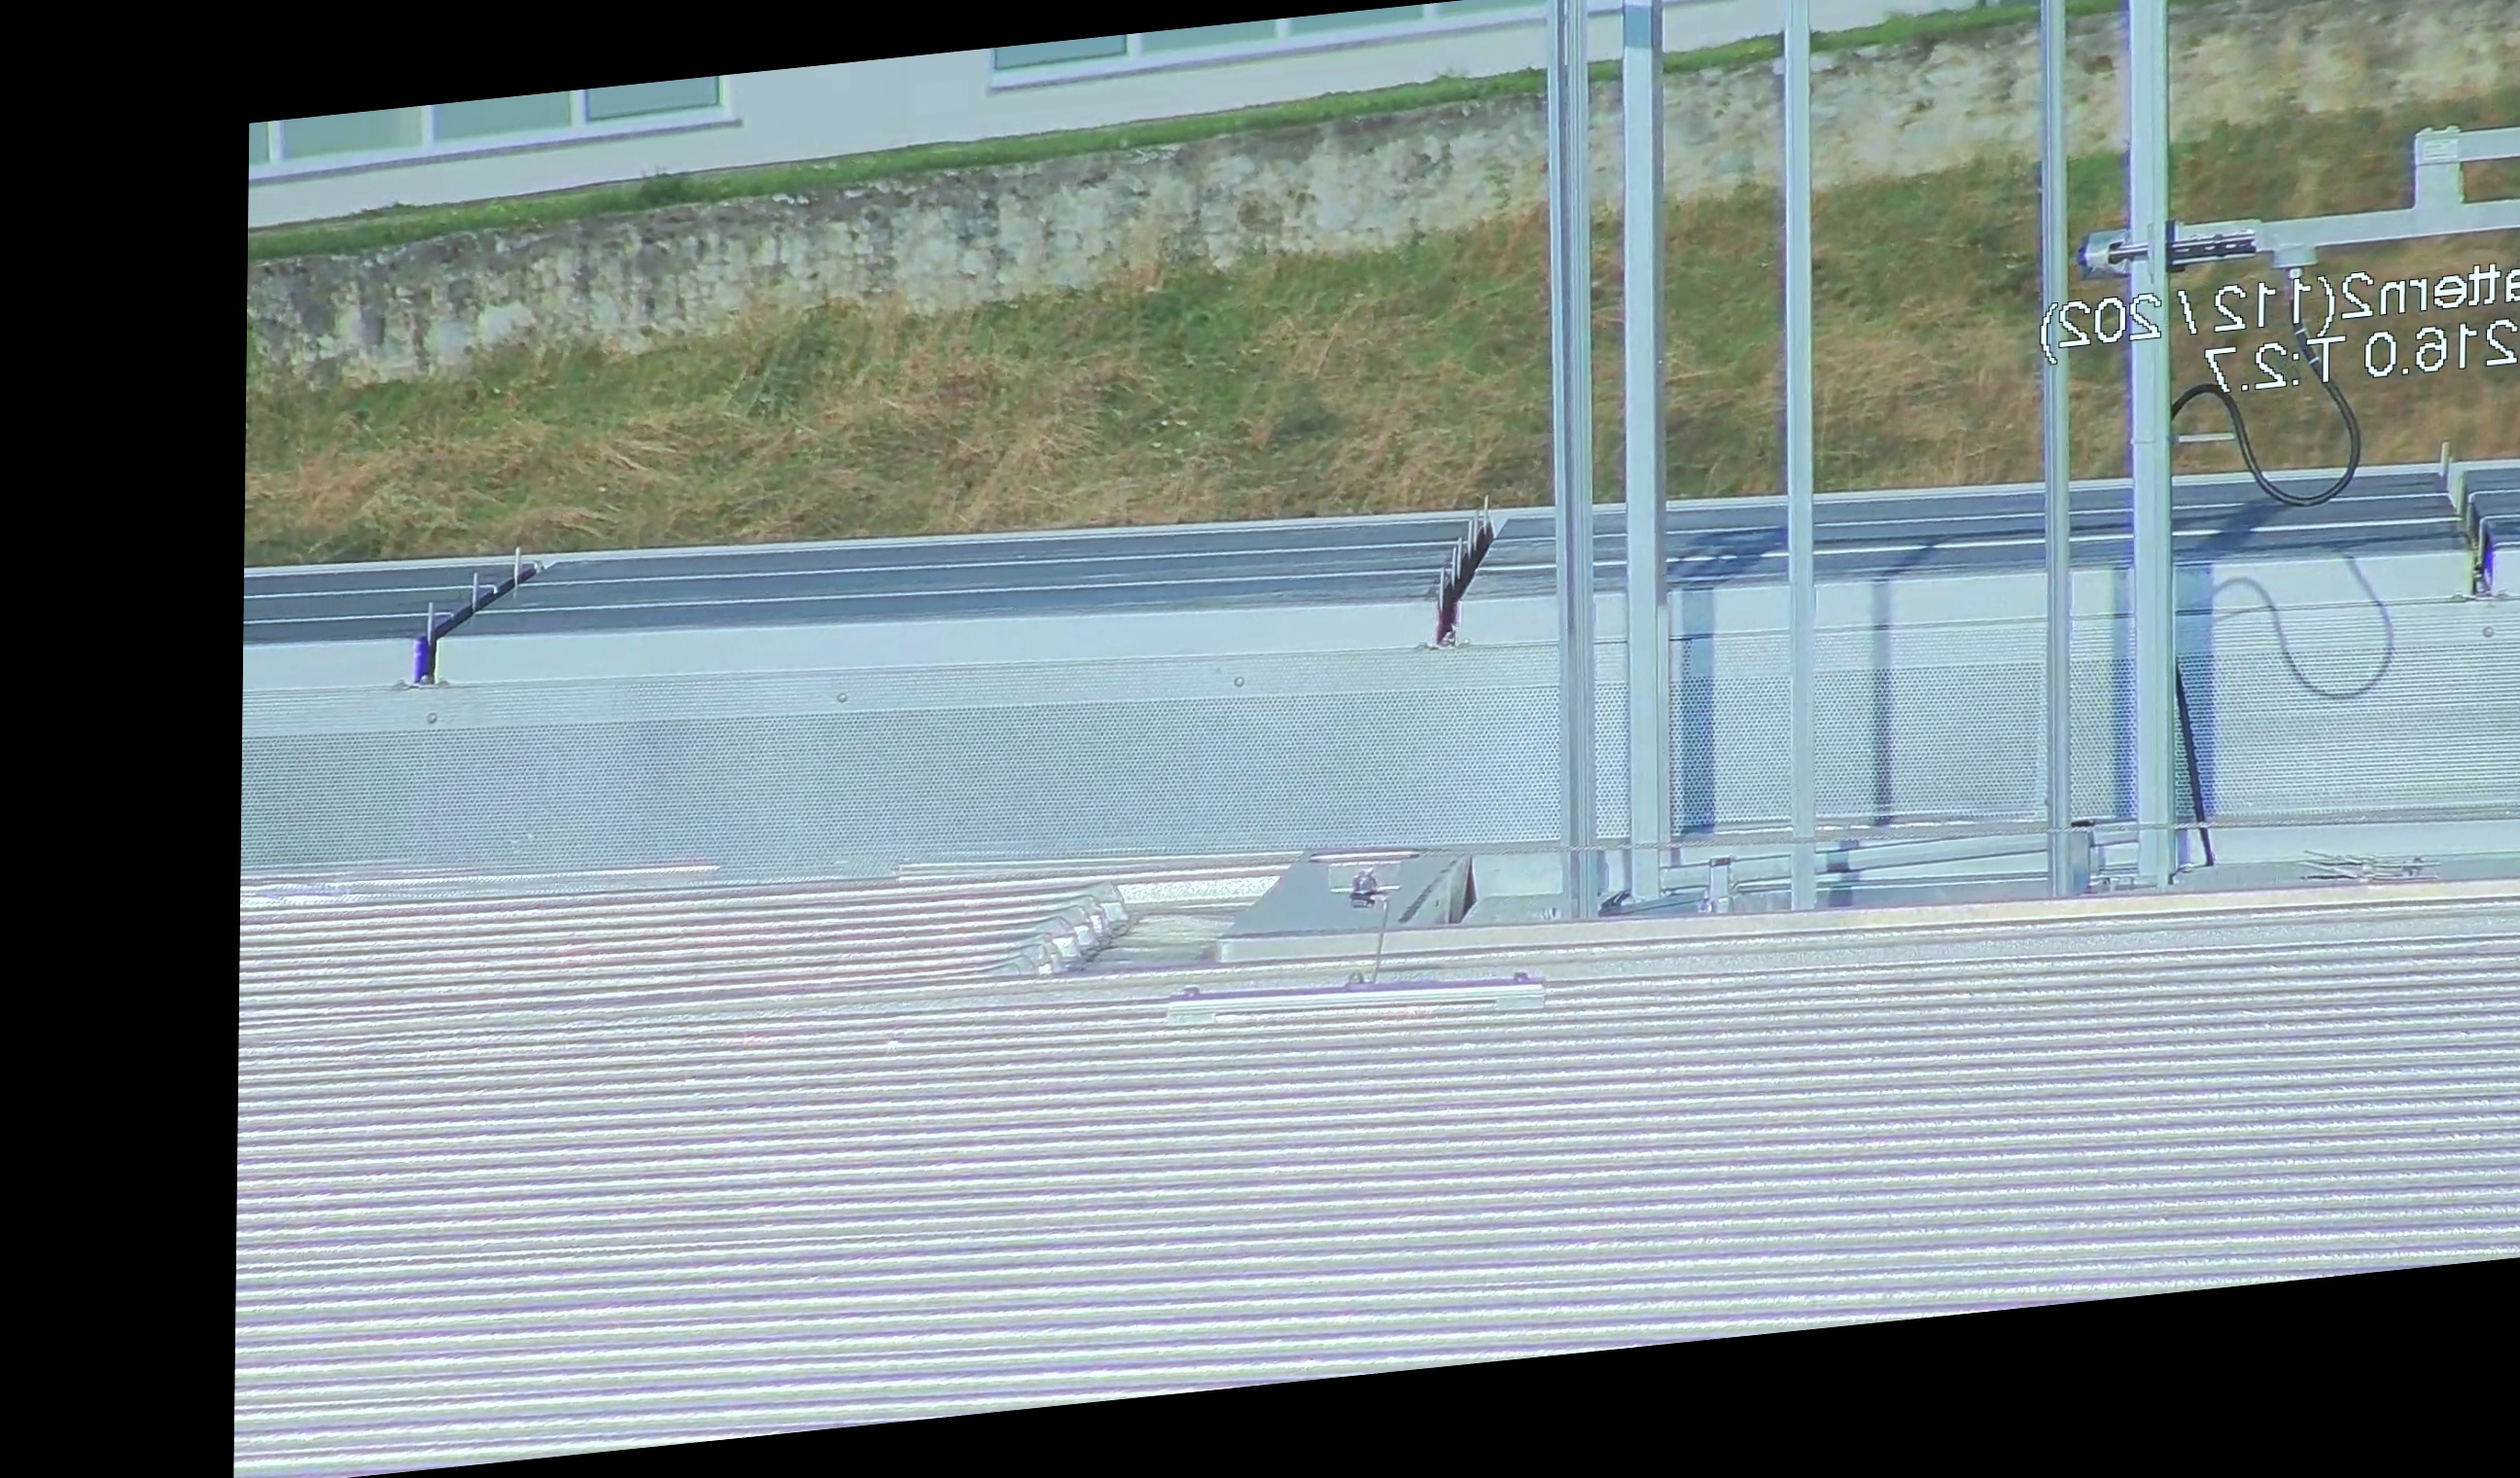Other: (1421, 482, 1518, 658)
